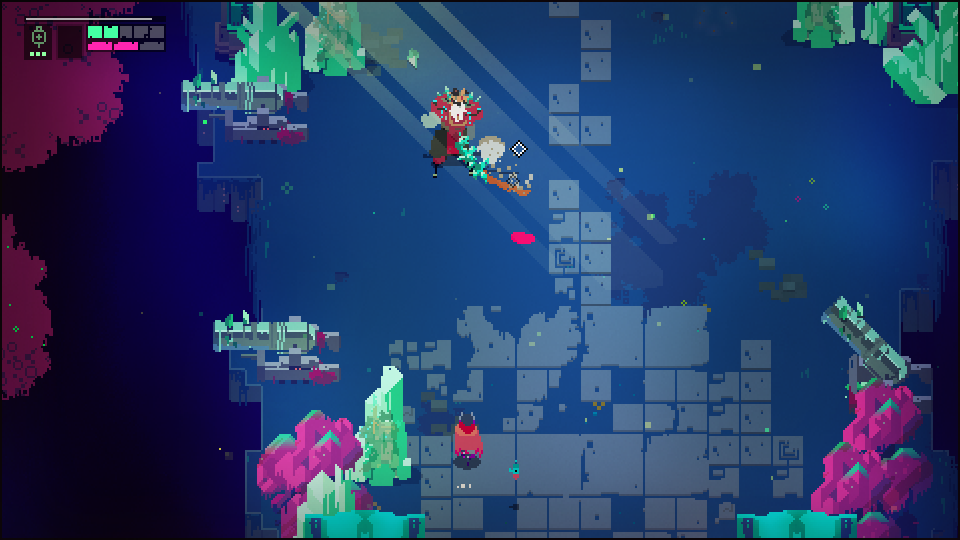hanged_man: (414, 84, 500, 190)
player: (452, 409, 484, 468)
